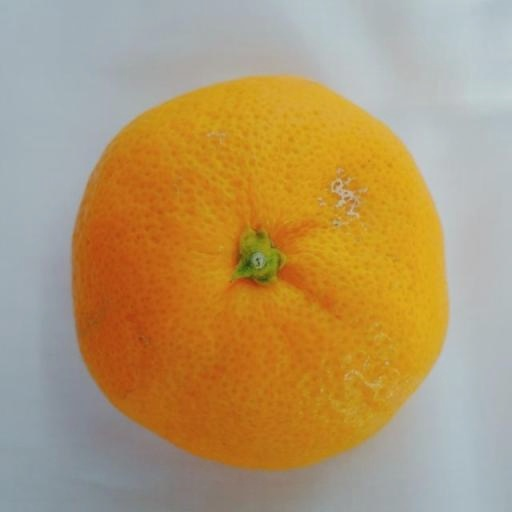fruit: (72, 77, 447, 468)
